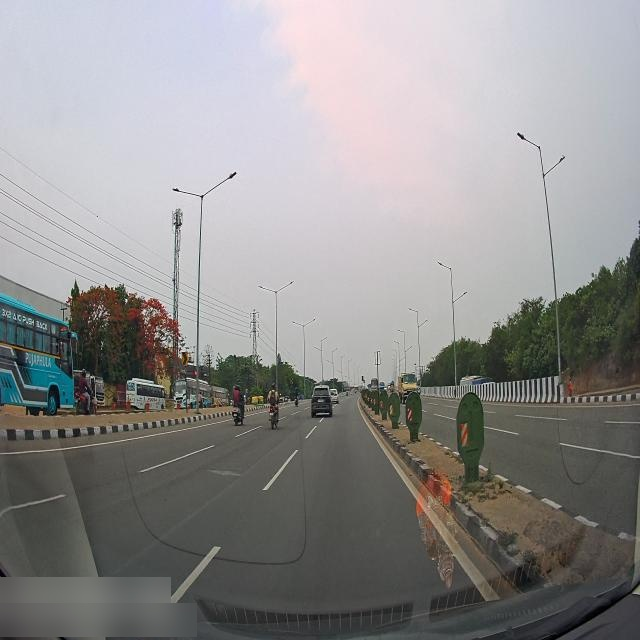pothole: (204, 462, 247, 484)
